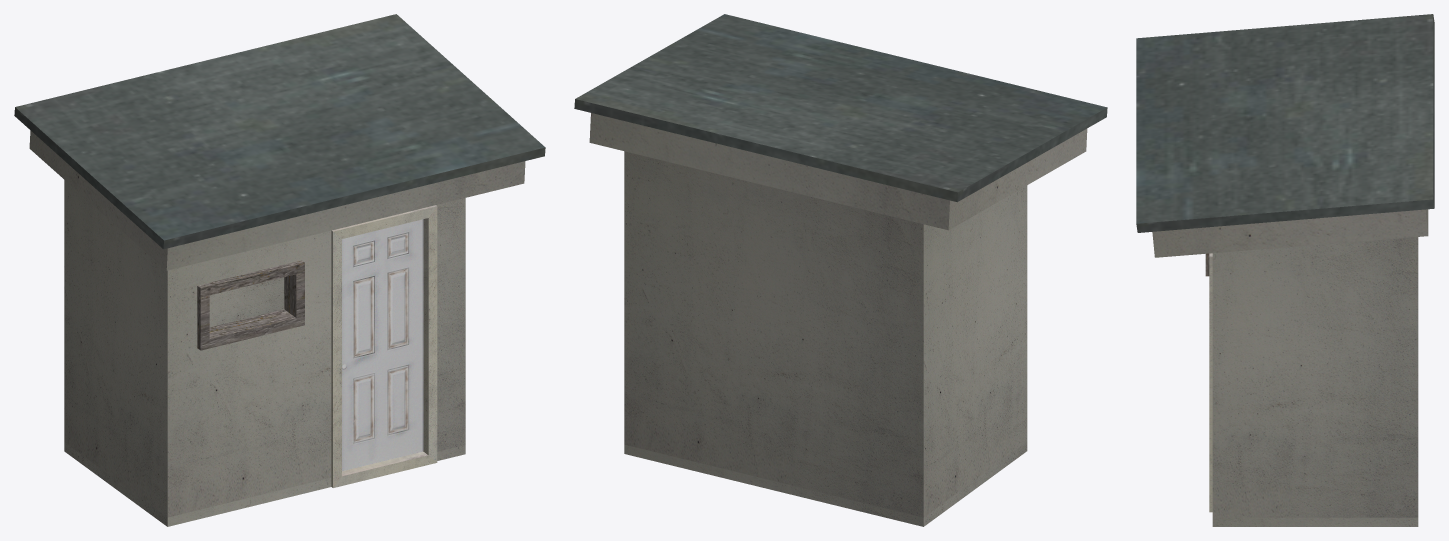
The model's file is small house.FBX.
The picture shows the model from 3 angles, left to right: view 1: azimuth 30°, elevation 25°; view 2: azimuth 150°, elevation 25°; view 3: azimuth 270°, elevation 25°; orthographic projection.
Parts seen in each view (by area): view 1: Box002, Box003; view 2: Box002; view 3: Box002.
Boxes of the visible parts, x1,y1,x2,y2 form: Box002: (14, 14, 545, 526); Box003: (342, 219, 423, 471); Box002: (574, 14, 1107, 526); Box002: (1136, 14, 1434, 526).
Bounding box in the file's own units: 128 × 112 × 86.99.
